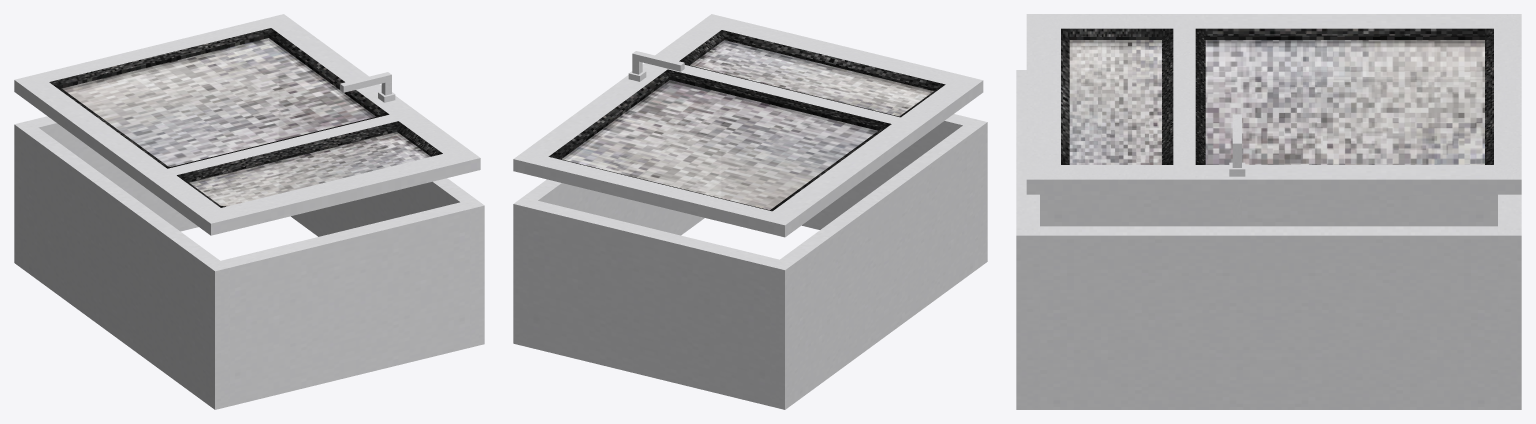
The model's file is door_2.fbx.
3 views of the same model, side by side, from view 1: azimuth 30°, elevation 25°; view 2: azimuth 150°, elevation 25°; view 3: azimuth 270°, elevation 25° (orthographic). The views are drawn at different scales.
Parts seen in each view (by area): view 1: Cube_001, Cube, Cube_002, Cube_003, Cube_004; view 2: Cube_001, Cube, Cube_002, Cube_003, Cube_004, Cube_005; view 3: Cube_001, Cube, Cube_002, Cube_003, Cube_004.
Part boxes in pixels (<box>): Cube_001: <box>14,59,484,409</box>; Cube: <box>14,14,480,235</box>; Cube_002: <box>62,38,375,166</box>; Cube_003: <box>190,132,430,206</box>; Cube_004: <box>340,72,395,102</box>; Cube_001: <box>513,56,987,409</box>; Cube: <box>513,14,983,237</box>; Cube_002: <box>562,80,877,209</box>; Cube_003: <box>690,40,933,116</box>; Cube_004: <box>628,51,684,81</box>; Cube_005: <box>633,107,683,125</box>; Cube_001: <box>1016,70,1521,409</box>; Cube: <box>1026,14,1521,194</box>; Cube_002: <box>1205,40,1484,164</box>; Cube_003: <box>1069,40,1161,164</box>; Cube_004: <box>1229,114,1245,176</box>.
Size of the model in its own units: 4.07 by 3 by 5.25.
